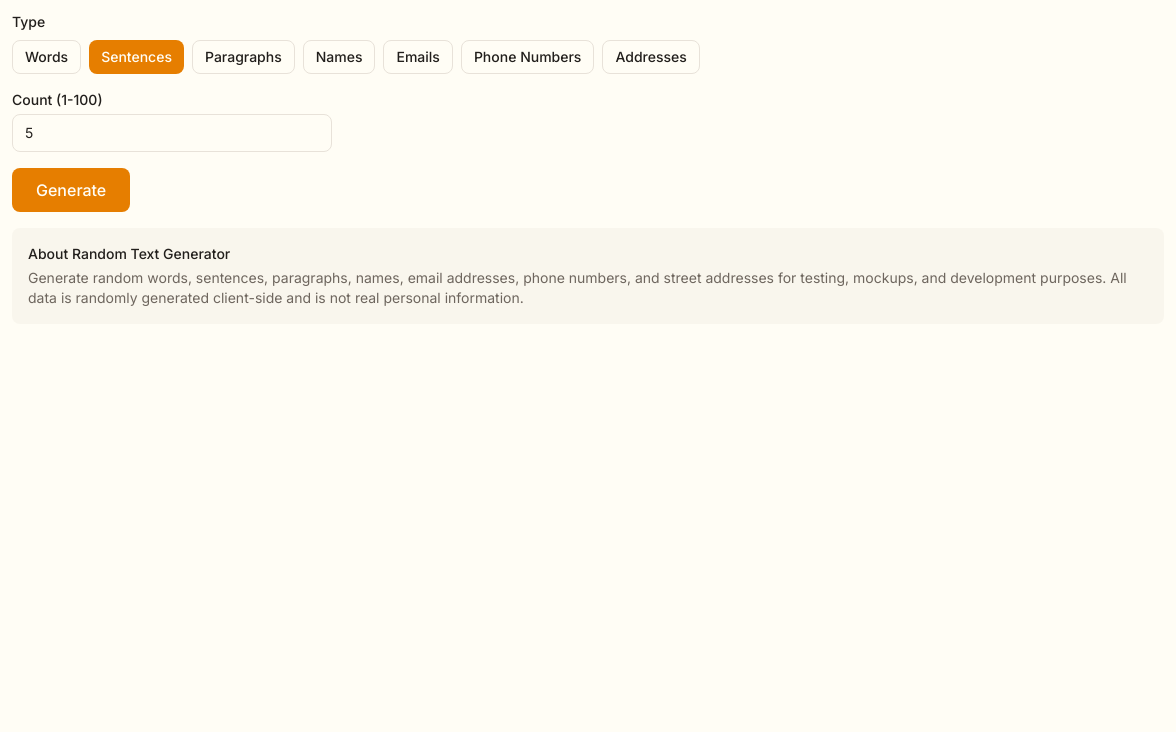
Test: RandomTextGenerator › shows word and character count after generation
Click the button "Generate". click: x=71, y=190
box: [12,168,130,212]
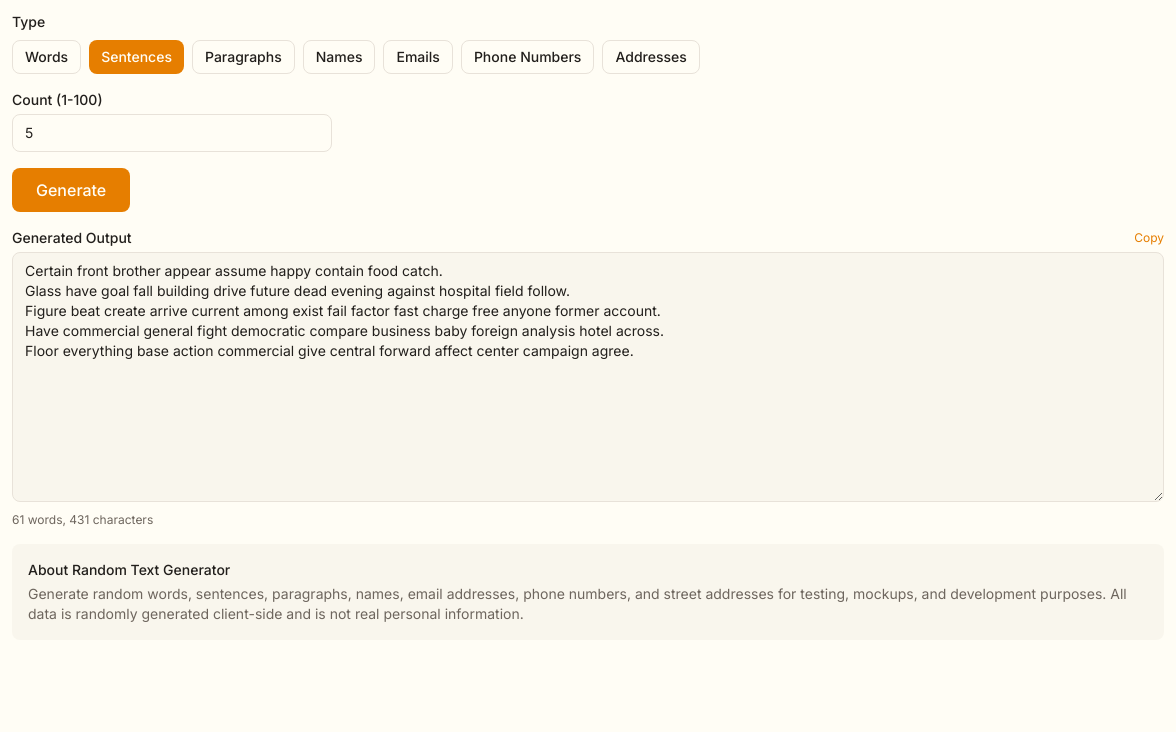
expect the text "61 words, 431 characters" is shown: met, box [12,512,153,527]
